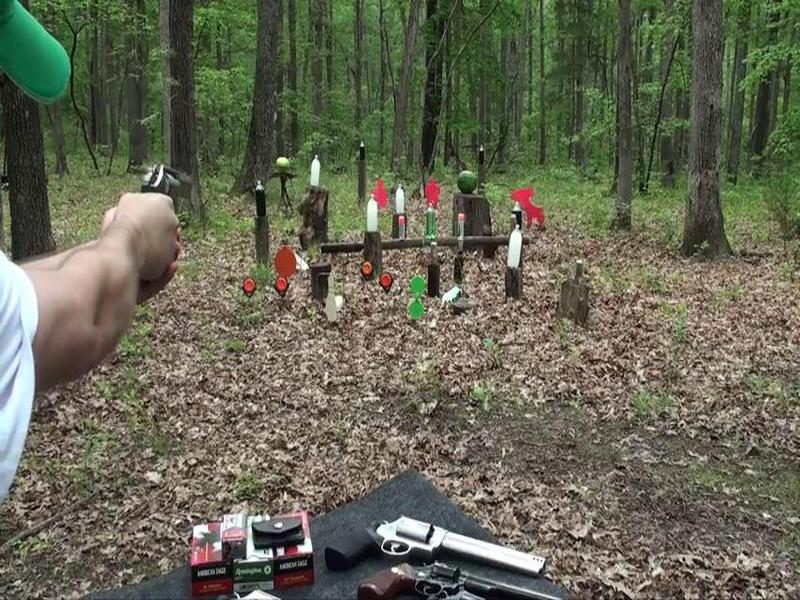Revolver: (120, 149, 209, 245)
